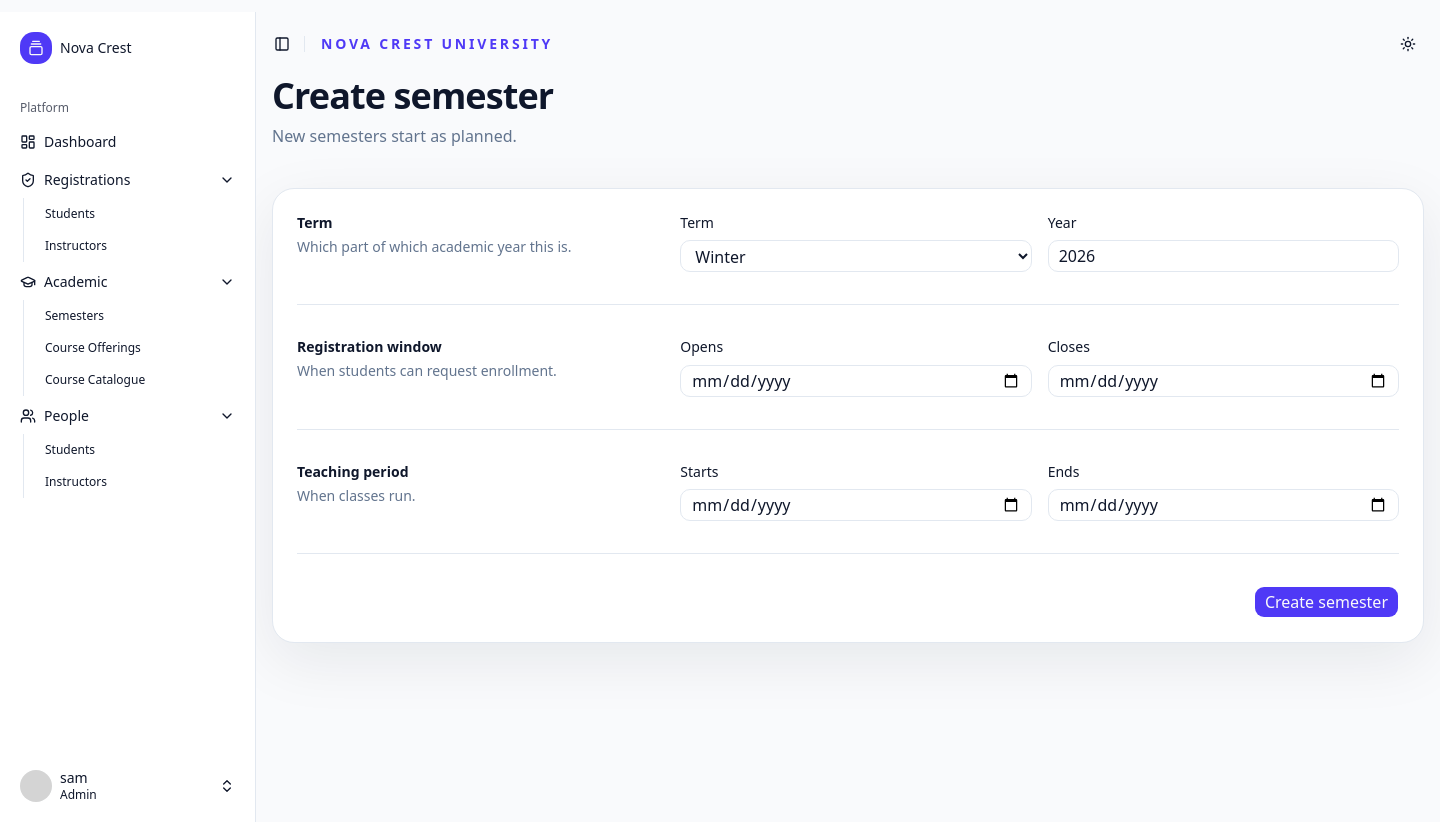
Test: CreateSemesterForm › creates the semester and returns to the list
Select "Summer" in the dropdown labelled "Term": {"x": 856, "y": 256} [680,240,1032,272]
Replace the text in the number field labelled "Year" with "2027": {"x": 1223, "y": 256} [1048,240,1399,272]
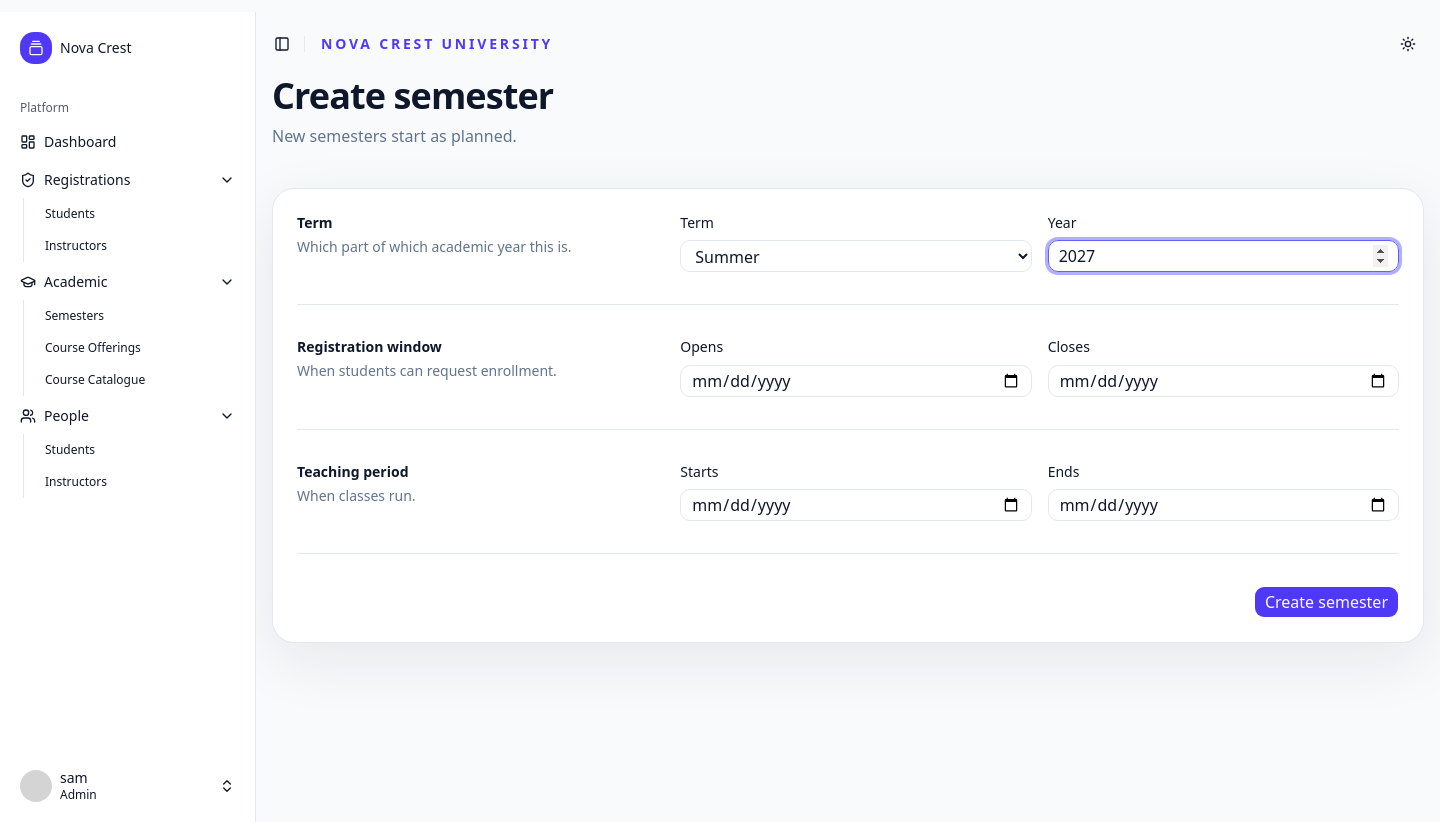
In the date field labelled "Opens": {"x": 856, "y": 380} [680,364,1032,396], type "2027-03-01"
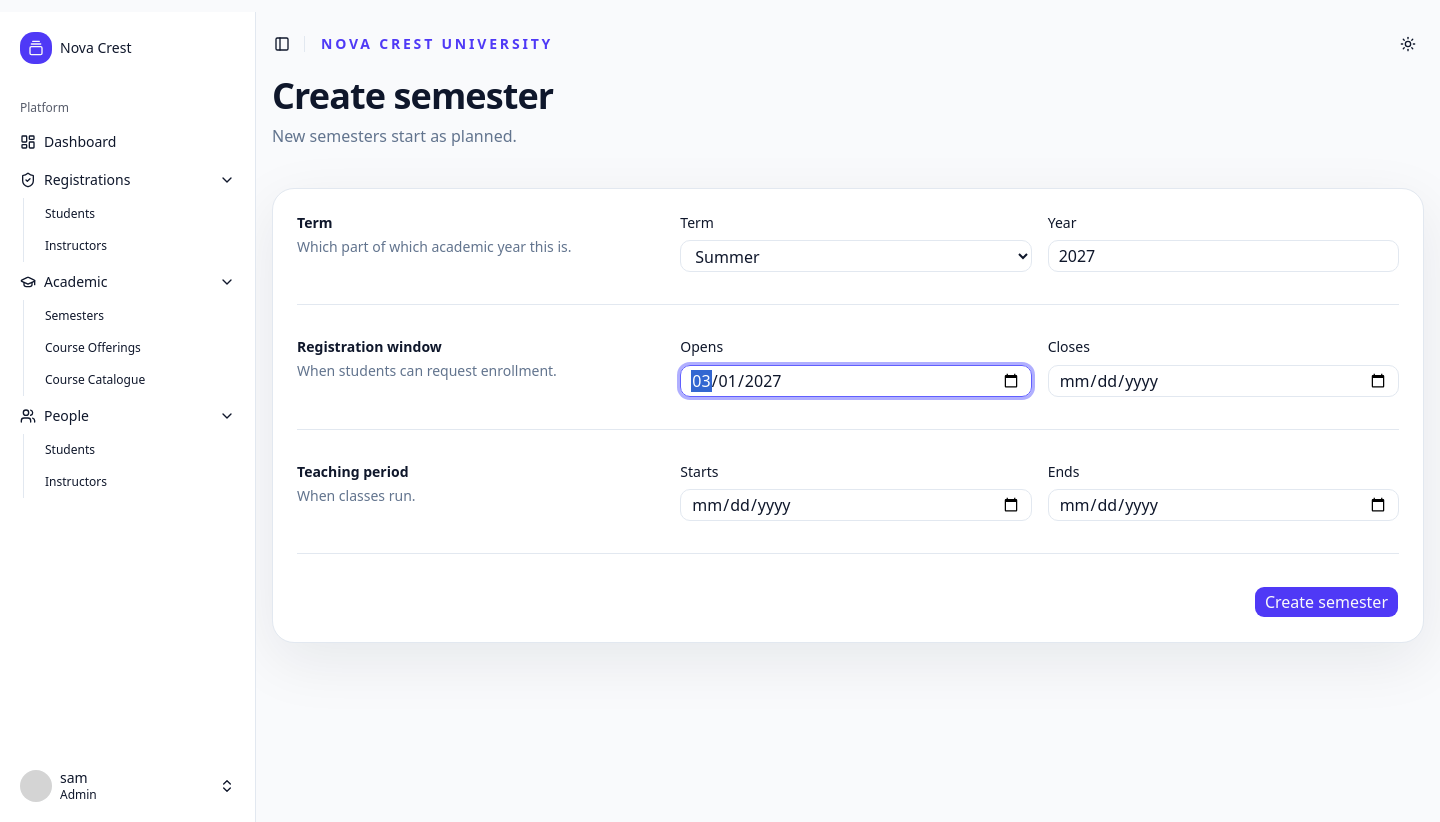
In the date field labelled "Closes": {"x": 1223, "y": 380} [1048,364,1399,396], type "2027-03-15"
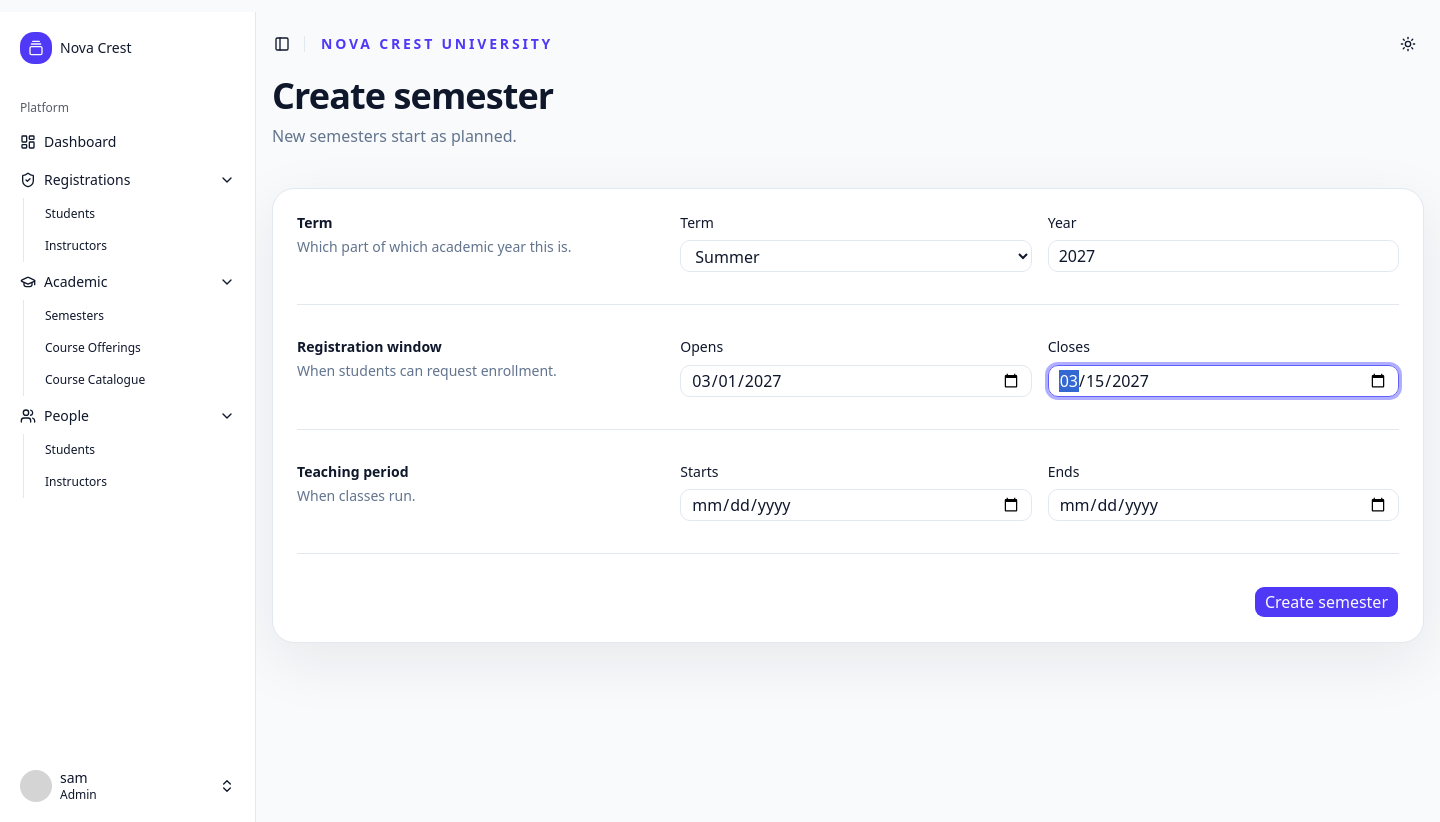
In the date field labelled "Starts": {"x": 856, "y": 505} [680,489,1032,521], type "2027-04-01"
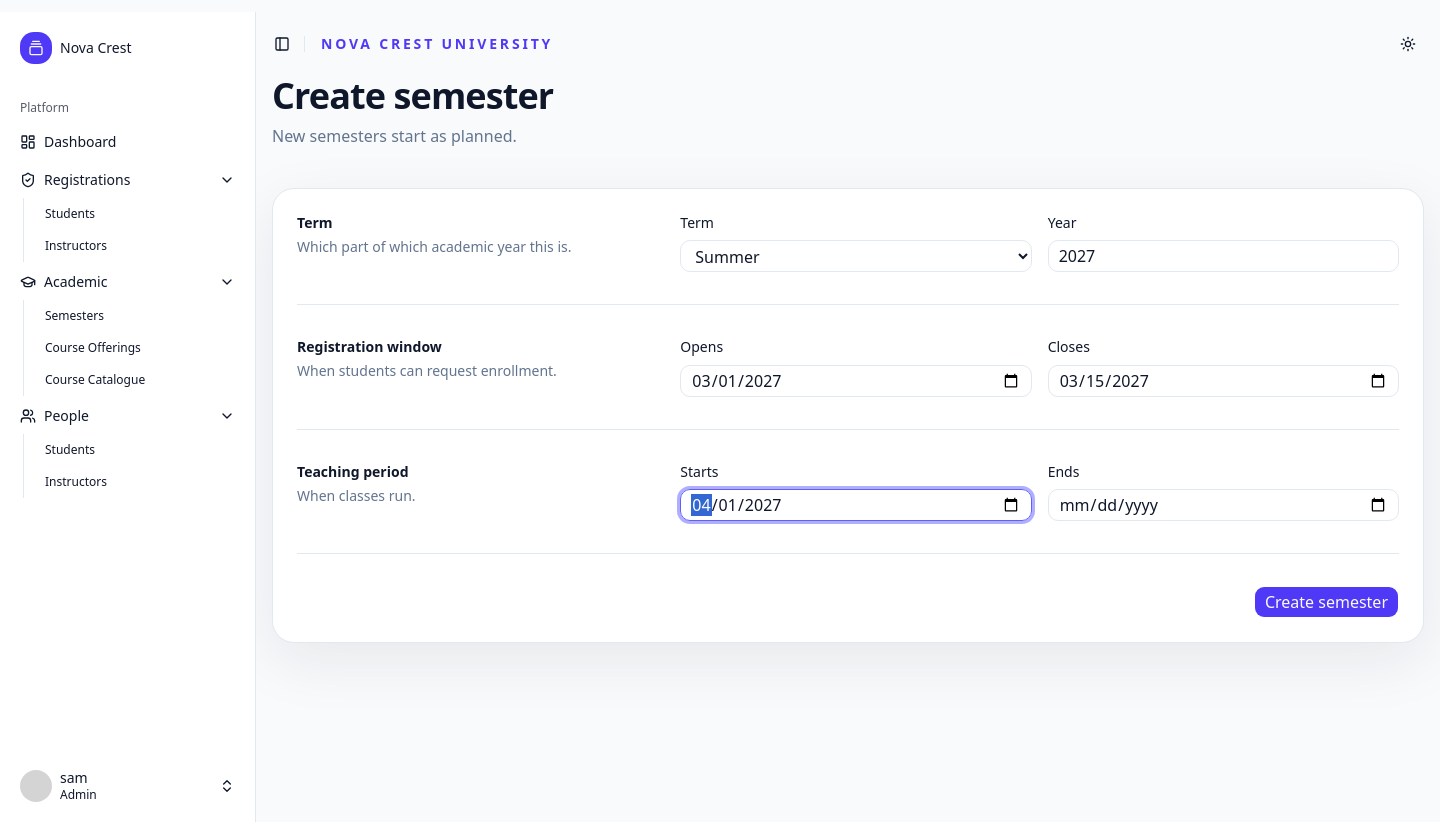
In the date field labelled "Ends": {"x": 1223, "y": 505} [1048,489,1399,521], type "2027-08-31"
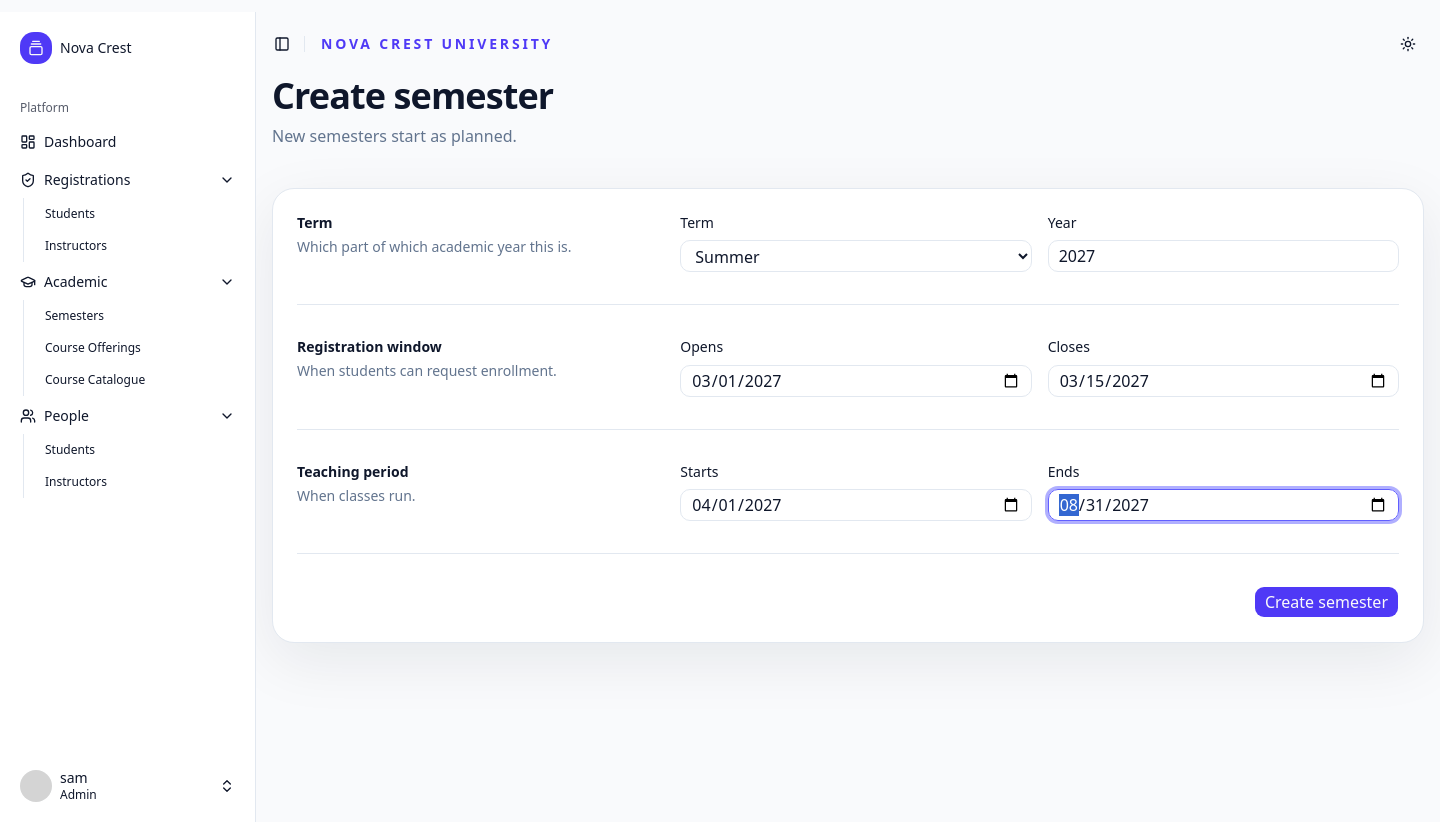
Click the button "Create semester": {"x": 1326, "y": 602} [1254,586,1399,618]
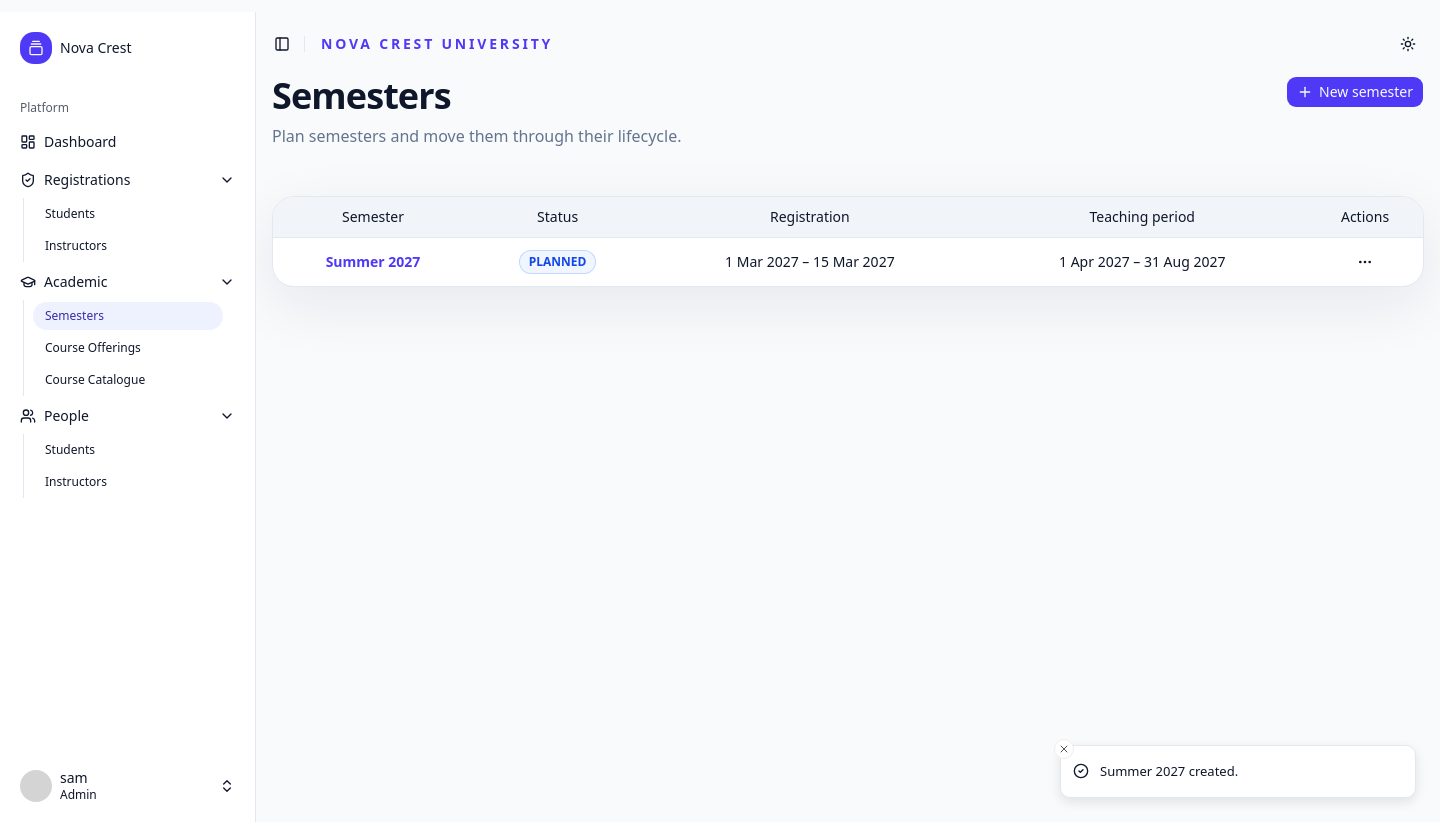
Expected: the text "Summer 2027 created." is shown, [1100,762,1238,781]
